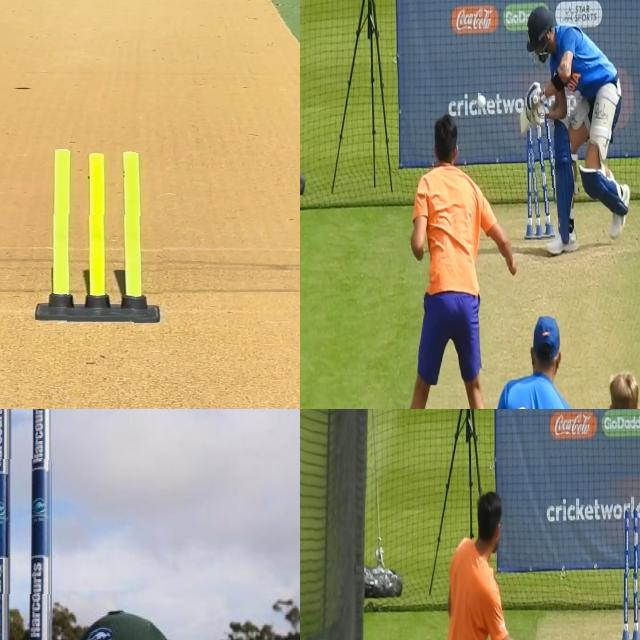Cricket ball: (475, 94, 488, 114)
Stumps: (34, 146, 164, 326), (0, 409, 52, 640), (527, 122, 555, 240), (622, 504, 640, 640)
